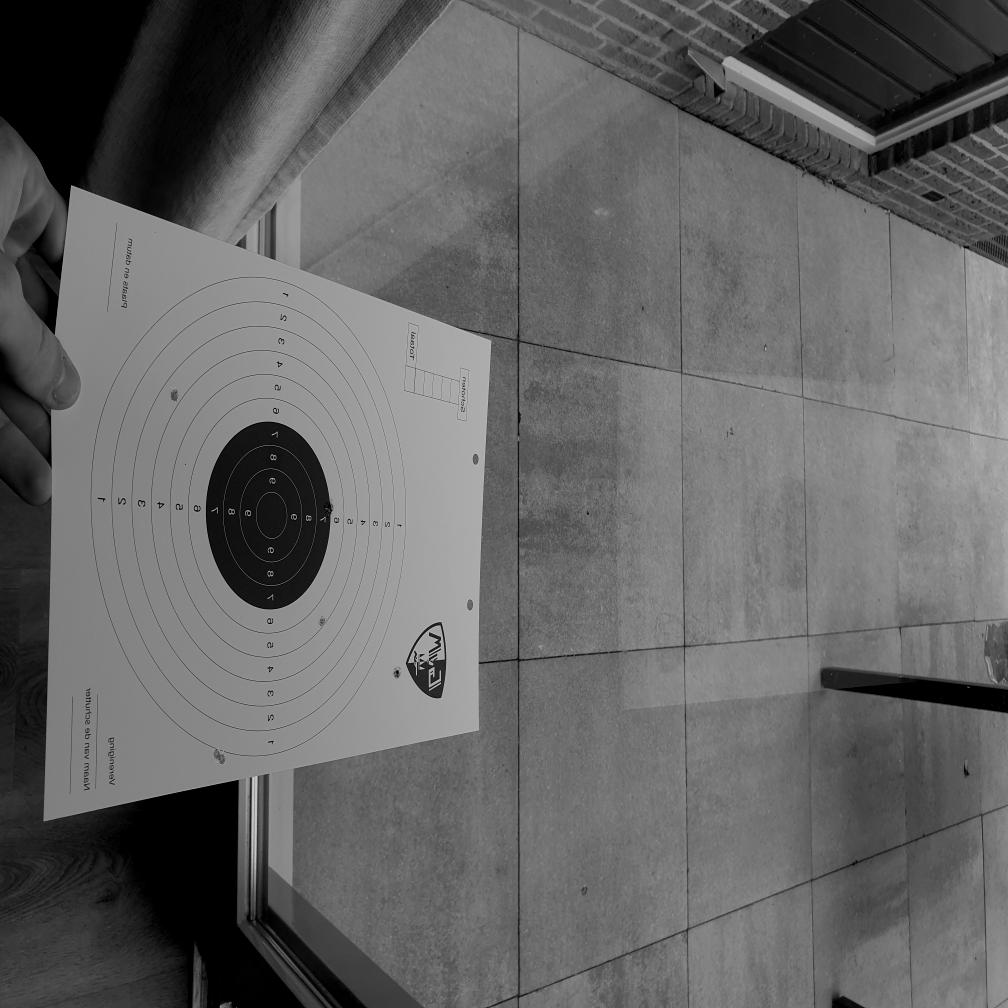0: (393, 666, 402, 680)
1: (218, 750, 226, 766), (213, 744, 220, 760)
3: (170, 385, 179, 403)
5: (317, 614, 327, 627)
7: (324, 499, 334, 518)
Target: (94, 273, 409, 758)
black_contour: (207, 421, 331, 610)
